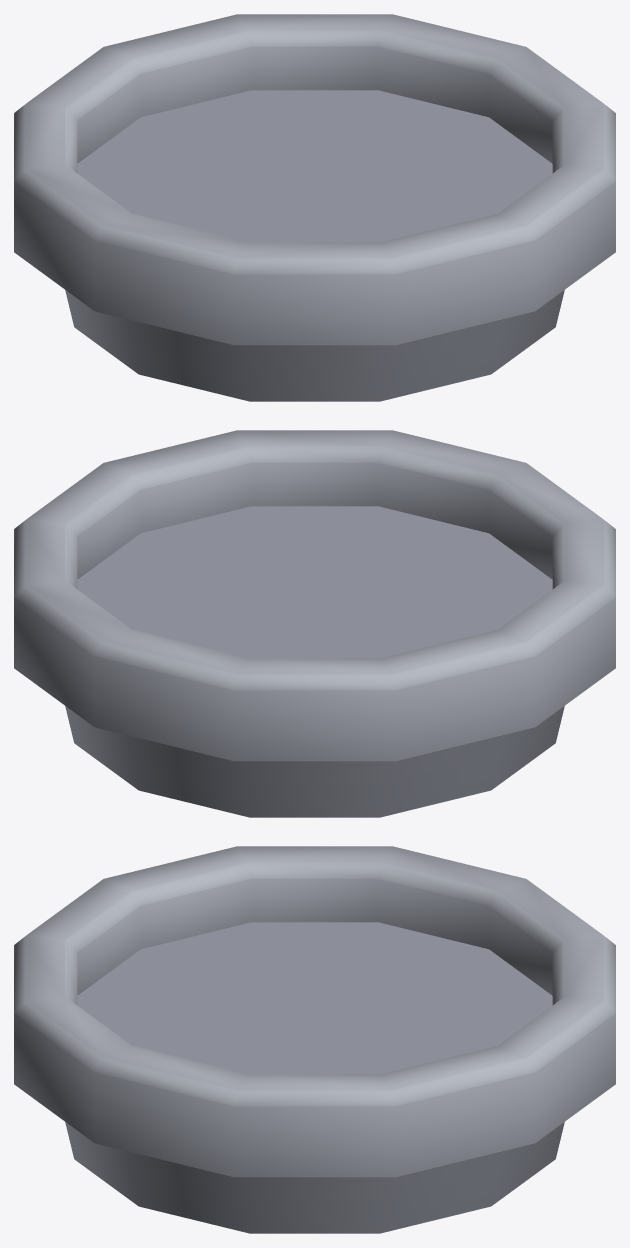
File: house_plants_plants_medium_saucer.glb
3 renders of one model, top to bottom at view 1: azimuth 30°, elevation 25°; view 2: azimuth 150°, elevation 25°; view 3: azimuth 270°, elevation 25°, orthographic.
Visible parts, largest first — view 1: saucer_B_medium; view 2: saucer_B_medium; view 3: saucer_B_medium.
Part boxes in pixels (x1,y1,x2,y2): saucer_B_medium: [14, 14, 615, 401]; saucer_B_medium: [14, 430, 615, 817]; saucer_B_medium: [14, 846, 615, 1233].
Bounding box in the file's own units: 1 × 0.3 × 1.
Materials: 1 (1 with a texture image).
